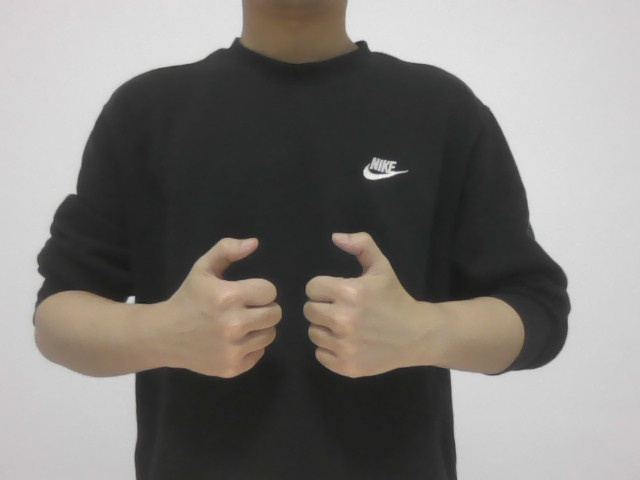marry/wife: (151, 218, 420, 397)
